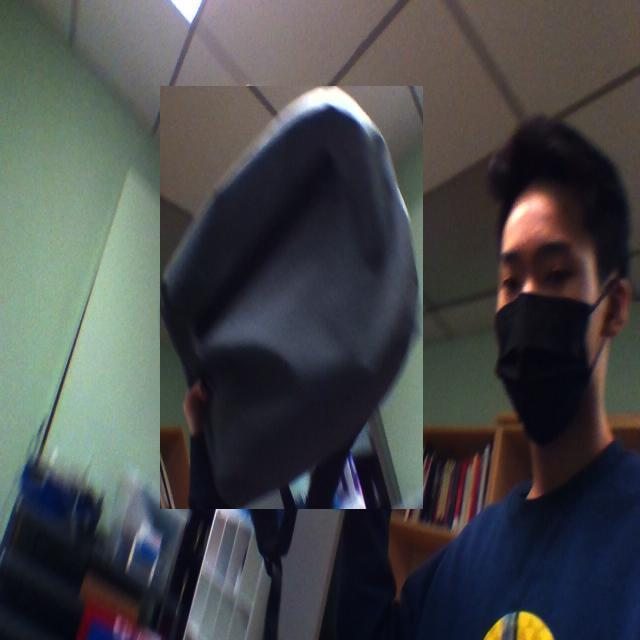Backpacks: (159, 86, 423, 510)
